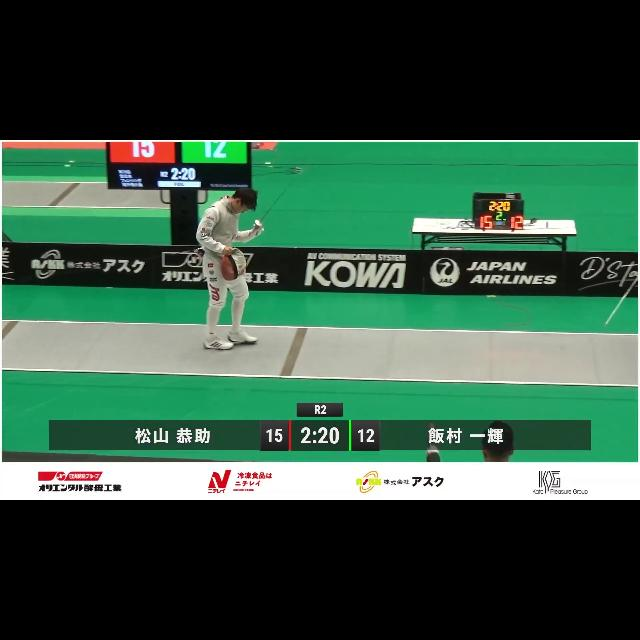blade: (255, 163, 309, 229), (603, 268, 639, 326)
